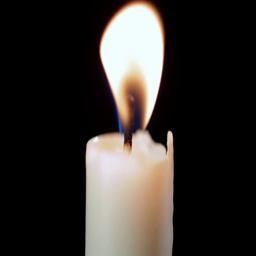fire: (100, 0, 165, 135)
